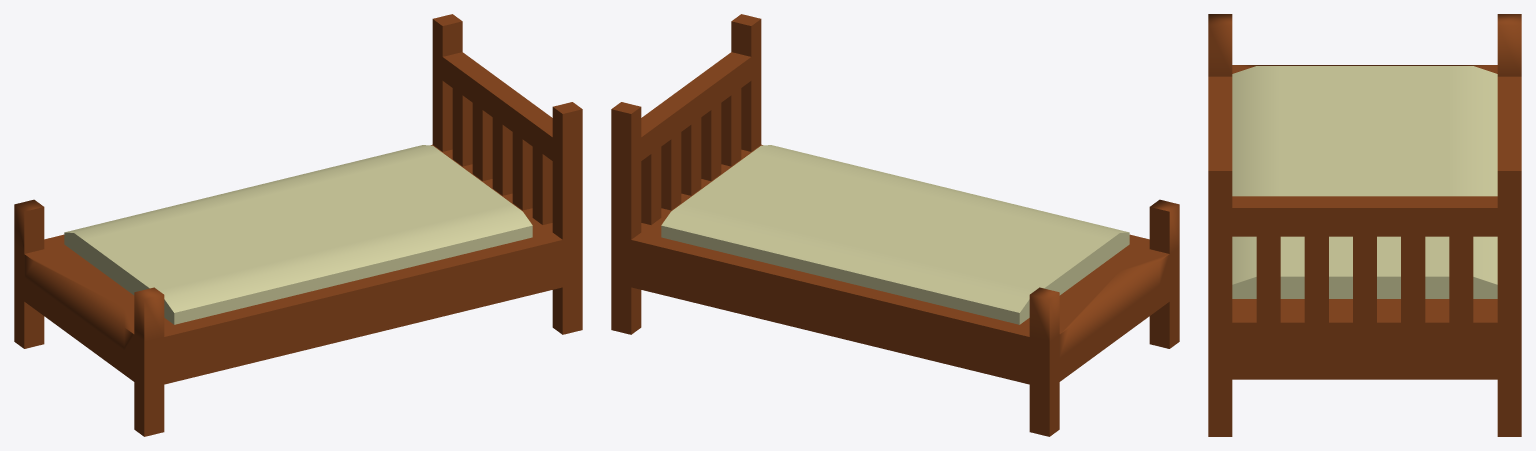
The model's file is bea_bed.fbx.
The picture shows the model from 3 angles, left to right: view 1: azimuth 30°, elevation 25°; view 2: azimuth 150°, elevation 25°; view 3: azimuth 270°, elevation 25°; orthographic projection. The views are drawn at different scales.
Parts seen in each view (by area): view 1: bed; view 2: bed; view 3: bed.
Boxes of the visible parts, x1,y1,x2,y2 form: bed: (14, 14, 582, 436); bed: (611, 14, 1179, 436); bed: (1208, 14, 1521, 436).
Bounding box in the file's own units: 621 × 299 × 319.
